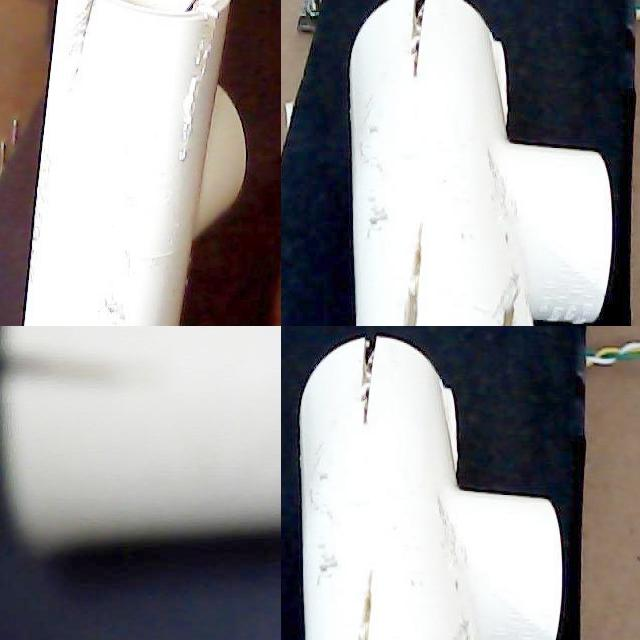Defective: (68, 0, 222, 191), (20, 270, 166, 326), (0, 339, 109, 403), (391, 188, 433, 326), (433, 349, 463, 522), (483, 2, 513, 174), (337, 338, 390, 433), (387, 0, 440, 86), (341, 535, 383, 640), (489, 250, 544, 326), (439, 597, 494, 640)
T Joint: (350, 0, 617, 326), (300, 336, 567, 640), (23, 0, 244, 326)
